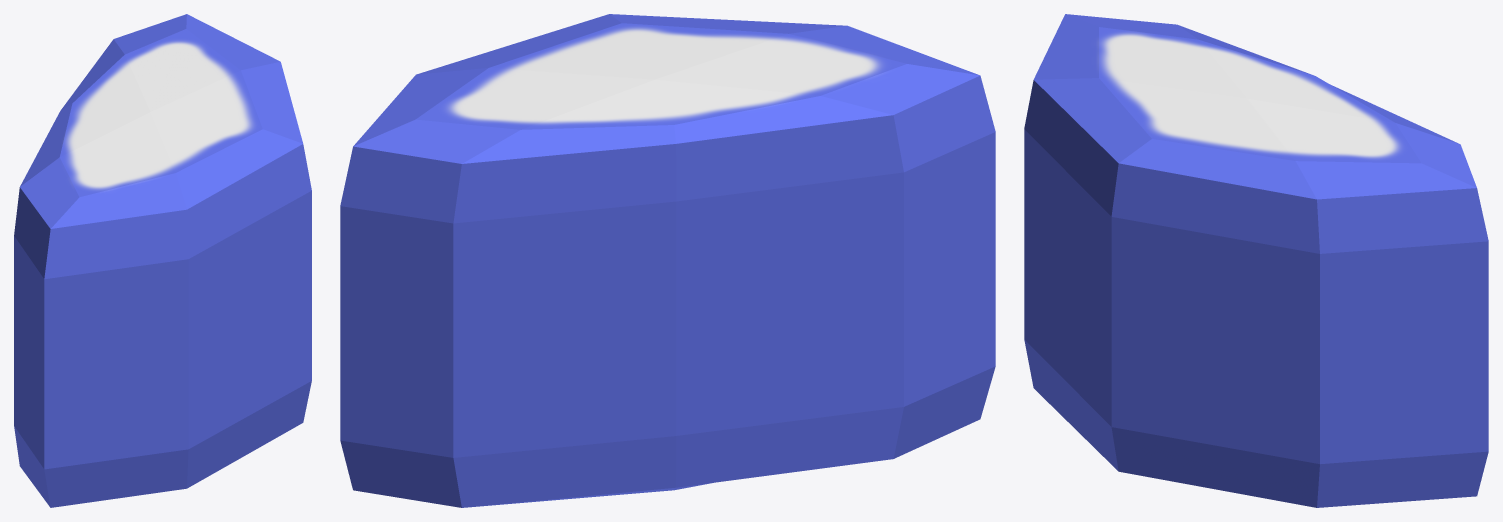
File: obstacle.fbx
The picture shows the model from 3 angles, left to right: view 1: azimuth 30°, elevation 25°; view 2: azimuth 150°, elevation 25°; view 3: azimuth 270°, elevation 25°; orthographic projection. The views are drawn at different scales.
Parts seen in each view (by area): view 1: Cube; view 2: Cube; view 3: Cube.
Boxes of the visible parts, x1,y1,x2,y2 form: Cube: [14, 14, 311, 507]; Cube: [340, 14, 995, 507]; Cube: [1024, 14, 1488, 507].
Size of the model in its own units: 143 by 113 by 144.
